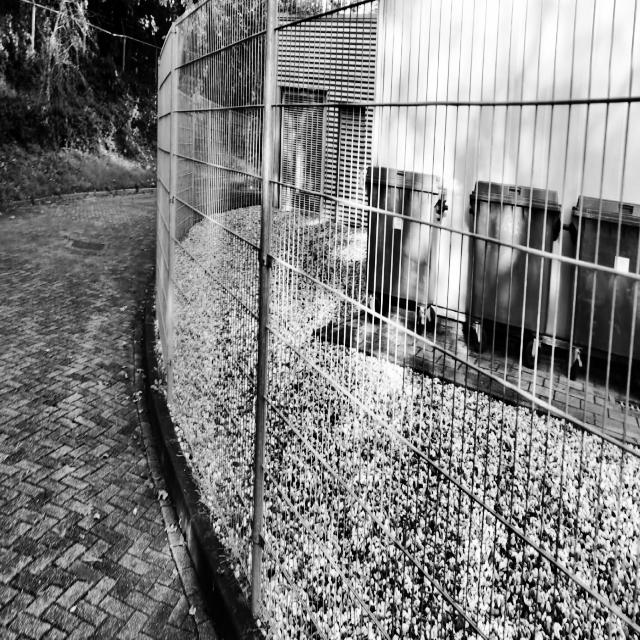fences: (270, 0, 640, 640), (151, 0, 262, 603)
